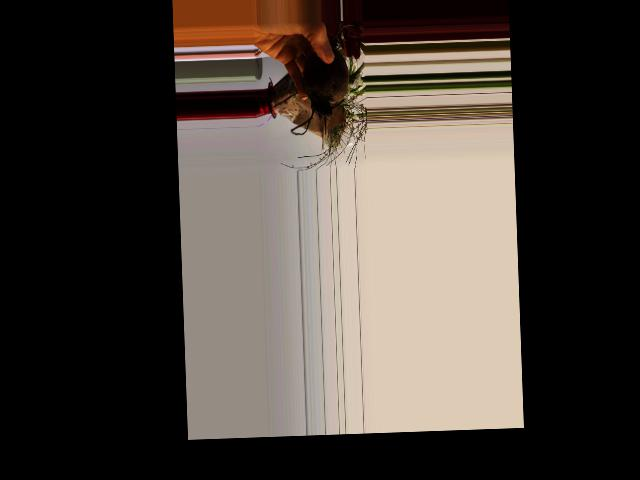beet: (287, 24, 357, 135)
